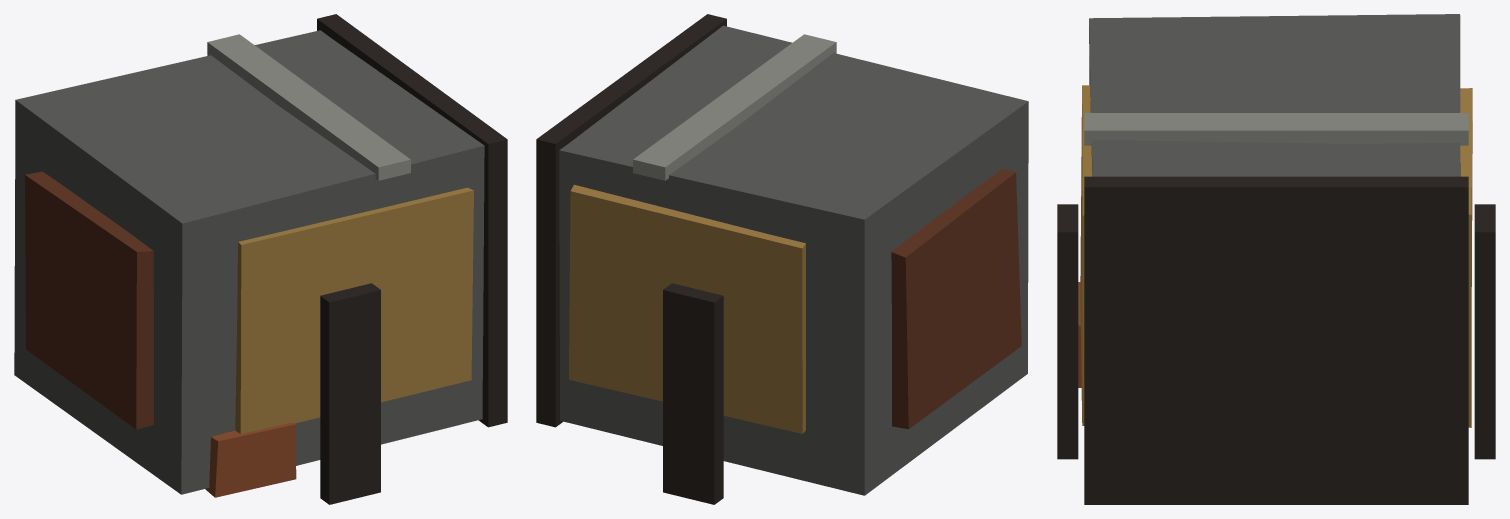
Rendered from wrec_rocket_pod.glb.
3 views of the same model, side by side, from view 1: azimuth 30°, elevation 25°; view 2: azimuth 150°, elevation 25°; view 3: azimuth 270°, elevation 25° (orthographic). The views are drawn at different scales.
Visible parts, largest first — view 1: wrec_rocket_pod; view 2: wrec_rocket_pod; view 3: wrec_rocket_pod.
Boxes of the visible parts, x1,y1,x2,y2 form: wrec_rocket_pod: [14, 14, 507, 504]; wrec_rocket_pod: [536, 14, 1028, 504]; wrec_rocket_pod: [1057, 14, 1495, 504].
Size of the model in its own units: 0.5316 by 0.465 by 0.525.
